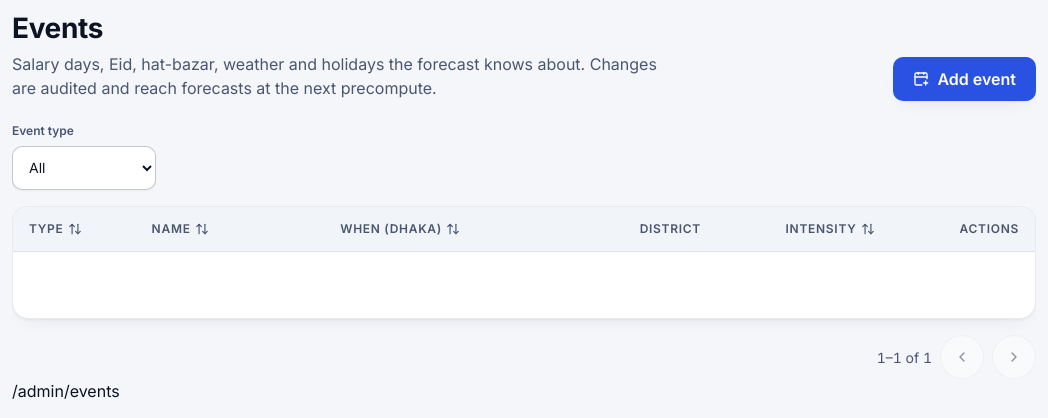
admin events › filters by type through the URL
Select "Salary" in the dropdown labelled "Event type": (84, 168) [12,146,156,190]
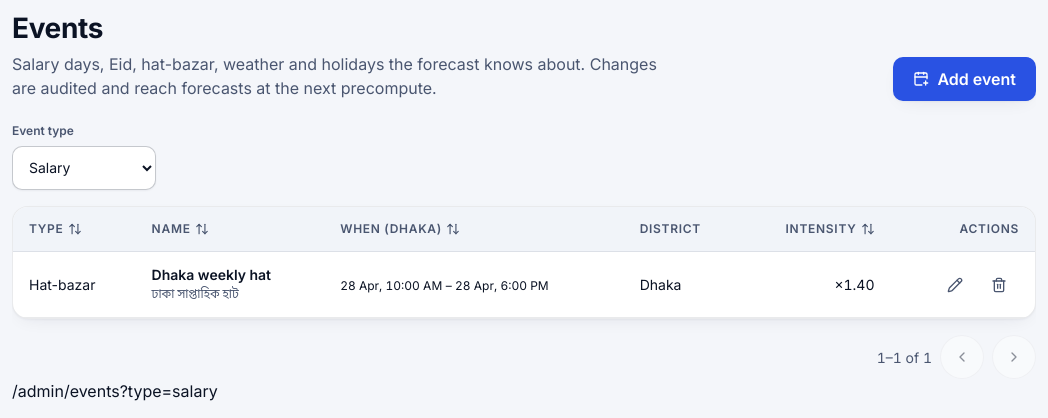
Now the text with test id "location" shows "type=salary", box [12,381,218,401]
